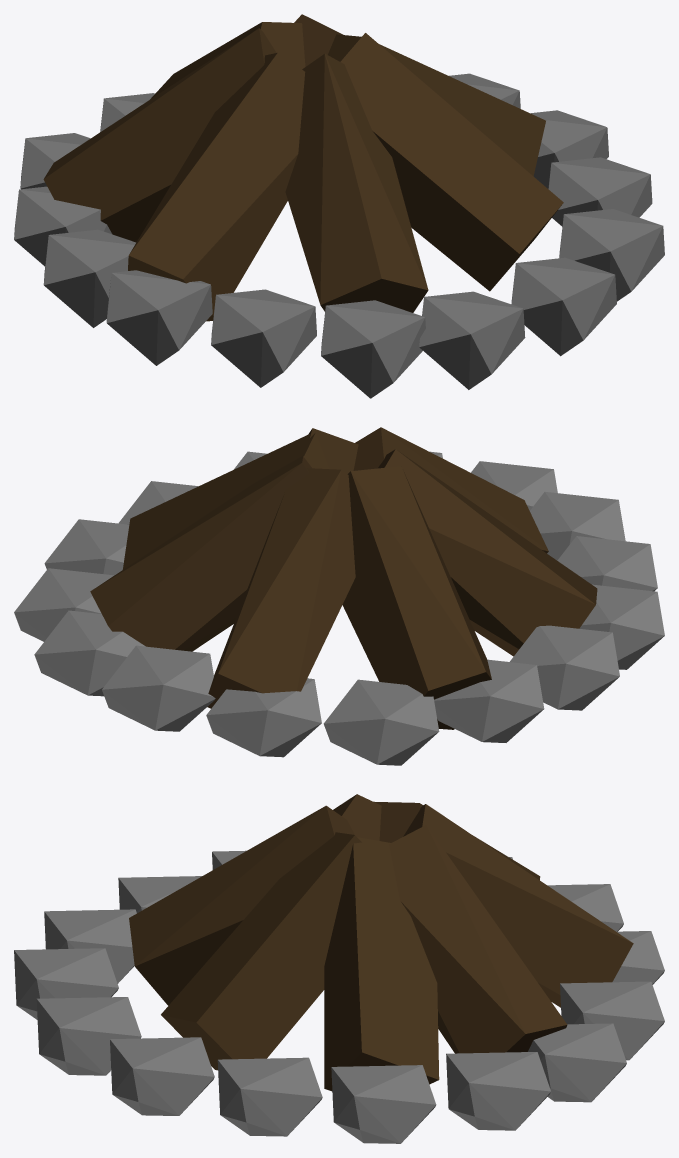
File: CampFire.fbx
3 views of the same model, one above another, from view 1: azimuth 30°, elevation 25°; view 2: azimuth 150°, elevation 25°; view 3: azimuth 270°, elevation 25° (orthographic). The views are drawn at different scales.
Visible parts, largest first — view 1: Icosphere.014; view 2: Icosphere.014; view 3: Icosphere.014.
Boxes of the visible parts, box(x1,y1,x2,y2) form: Icosphere.014: box(14, 14, 664, 398); Icosphere.014: box(14, 427, 664, 765); Icosphere.014: box(14, 794, 664, 1143).
Size of the model in its own units: 1135 by 441 by 1174.
